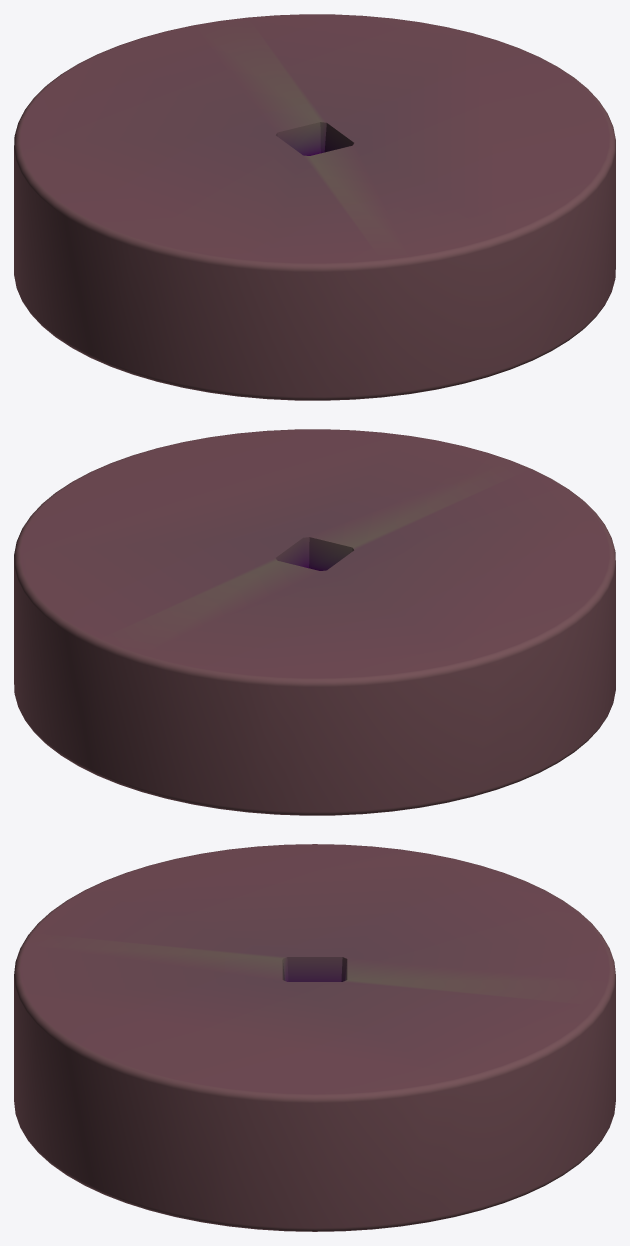
3 renders of one model, top to bottom at view 1: azimuth 30°, elevation 25°; view 2: azimuth 150°, elevation 25°; view 3: azimuth 270°, elevation 25°, orthographic.
Visible parts, largest first — view 1: body; view 2: body; view 3: body.
Part boxes in pixels (<box>): body: <box>14,14,615,400</box>; body: <box>14,429,615,815</box>; body: <box>14,844,615,1231</box>.
Bounding box in the file's own units: 0.9 × 0.2254 × 0.8974.
